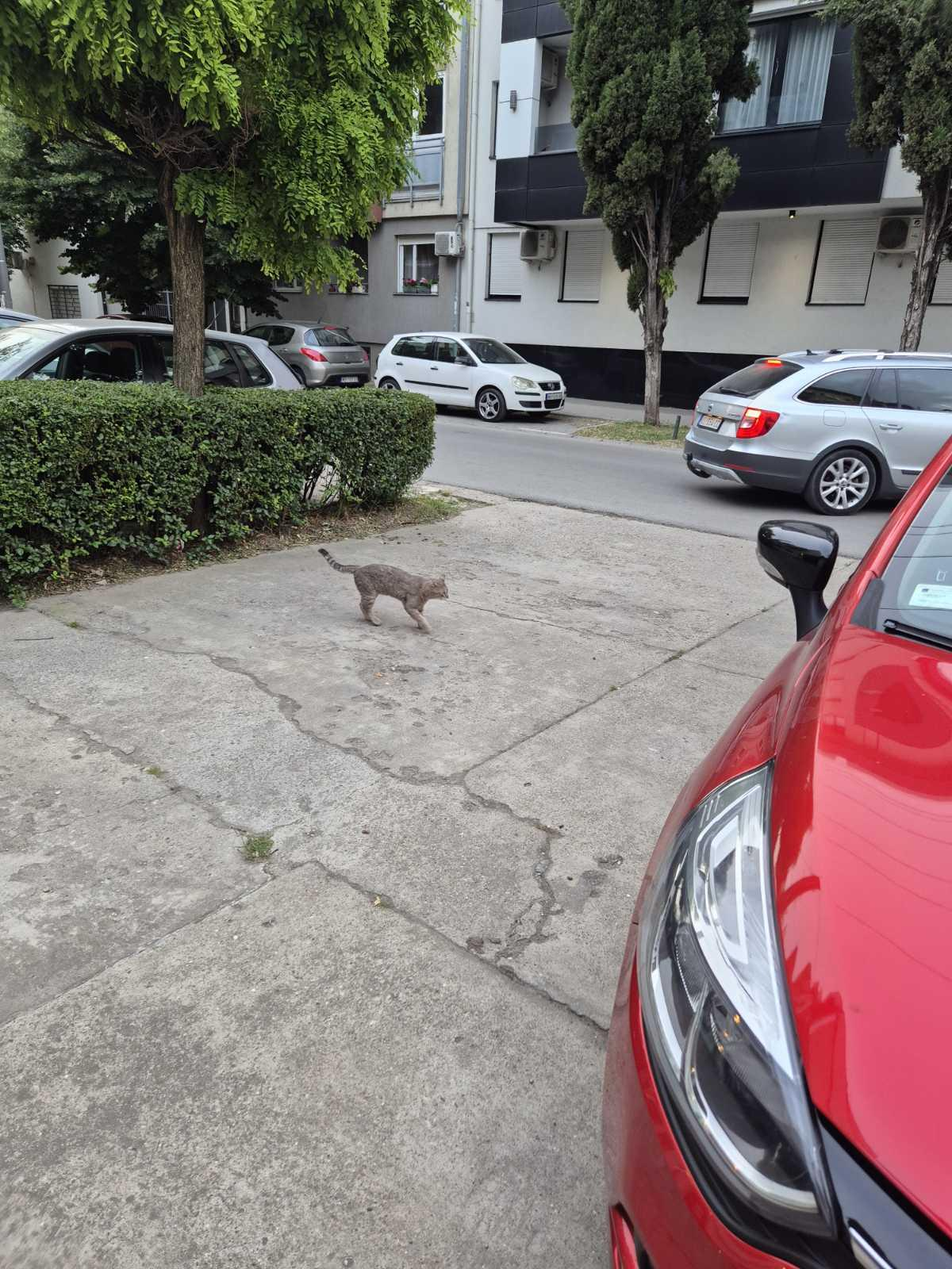macka: (317, 547, 450, 635)
